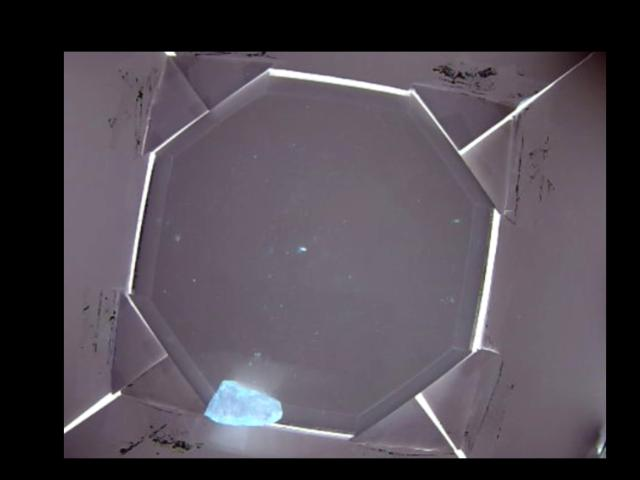Brisk: (206, 381, 280, 425)
